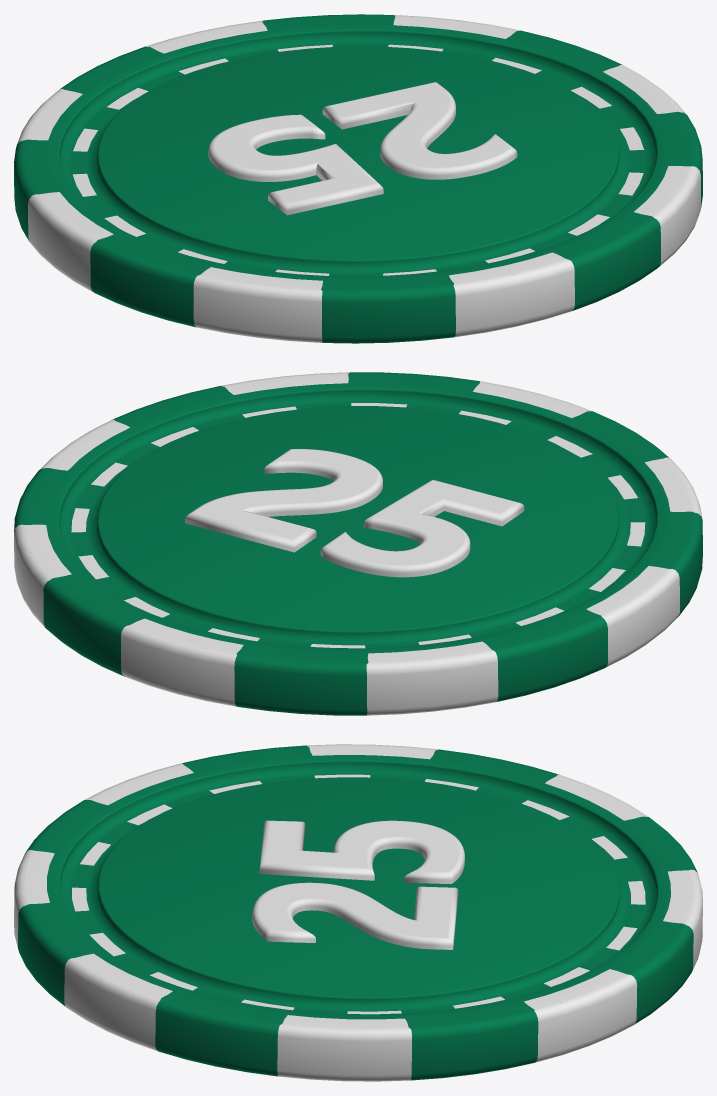
3 renders of one model, top to bottom at view 1: azimuth 30°, elevation 25°; view 2: azimuth 150°, elevation 25°; view 3: azimuth 270°, elevation 25°, orthographic.
Visible parts, largest first — view 1: Mesh_1004, Mesh_1004_2, Mesh_1004_3; view 2: Mesh_1004, Mesh_1004_2, Mesh_1004_3; view 3: Mesh_1004, Mesh_1004_2, Mesh_1004_3.
Part boxes in pixels (left/top/right/bottom): Mesh_1004: left=14, top=14, right=702, bottom=343; Mesh_1004_2: left=17, top=15, right=700, bottom=342; Mesh_1004_3: left=208, top=82, right=517, bottom=215; Mesh_1004: left=14, top=372, right=702, bottom=715; Mesh_1004_2: left=14, top=372, right=702, bottom=715; Mesh_1004_3: left=185, top=449, right=524, bottom=577; Mesh_1004: left=18, top=745, right=697, bottom=1080; Mesh_1004_2: left=14, top=744, right=702, bottom=1081; Mesh_1004_3: left=252, top=820, right=464, bottom=949.
Size of the model in its own units: 0.0802 by 0.00943 by 0.0802.
